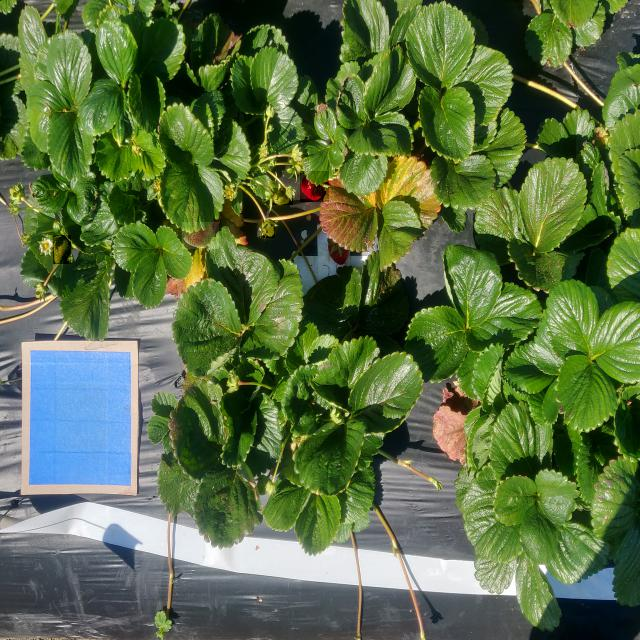partially-ripe: (38, 236, 54, 257)
ripe: (53, 235, 72, 265), (271, 188, 294, 206), (292, 155, 310, 173), (9, 183, 24, 204), (263, 220, 276, 239)
unripe: (182, 222, 220, 250), (300, 171, 330, 203), (328, 234, 352, 265)
